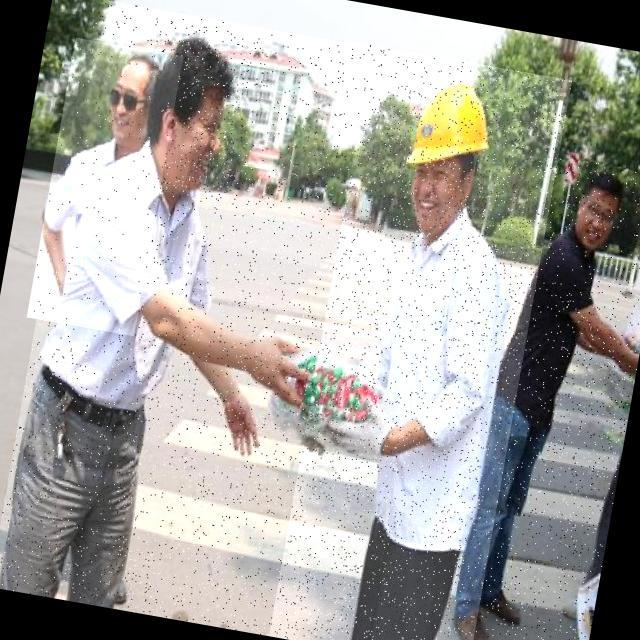Gloves: (133, 34, 254, 202), (320, 389, 399, 464)
Helmet: (404, 74, 500, 178)
Human: (0, 0, 372, 635), (241, 40, 572, 640), (434, 150, 640, 640), (26, 37, 183, 336)
Safety Boot: (477, 591, 526, 631), (447, 604, 497, 640)
